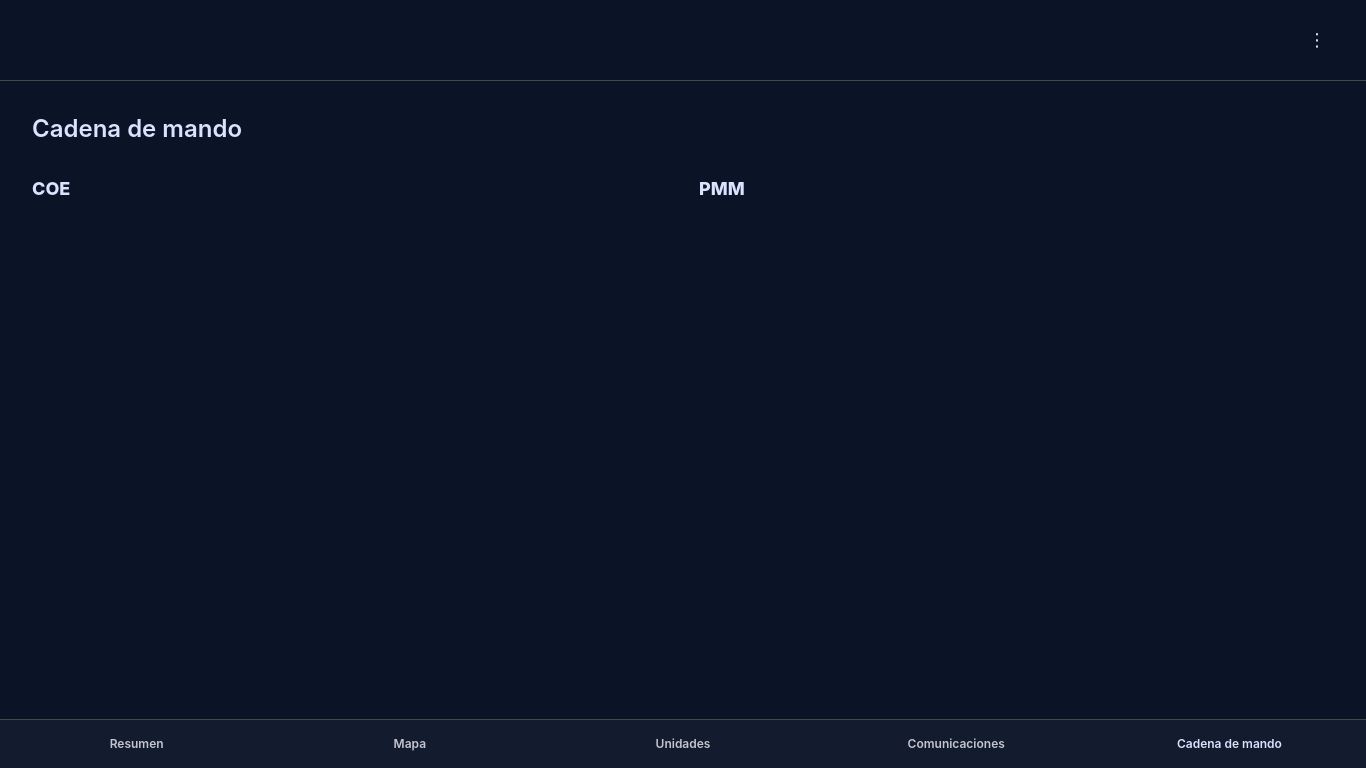
Scenario: TabBar › click en una tab navega a su ruta y cambia el contenido
Step 1. Click the tab "Unidades" → coordinates (683, 744), box [546,720,820,767]
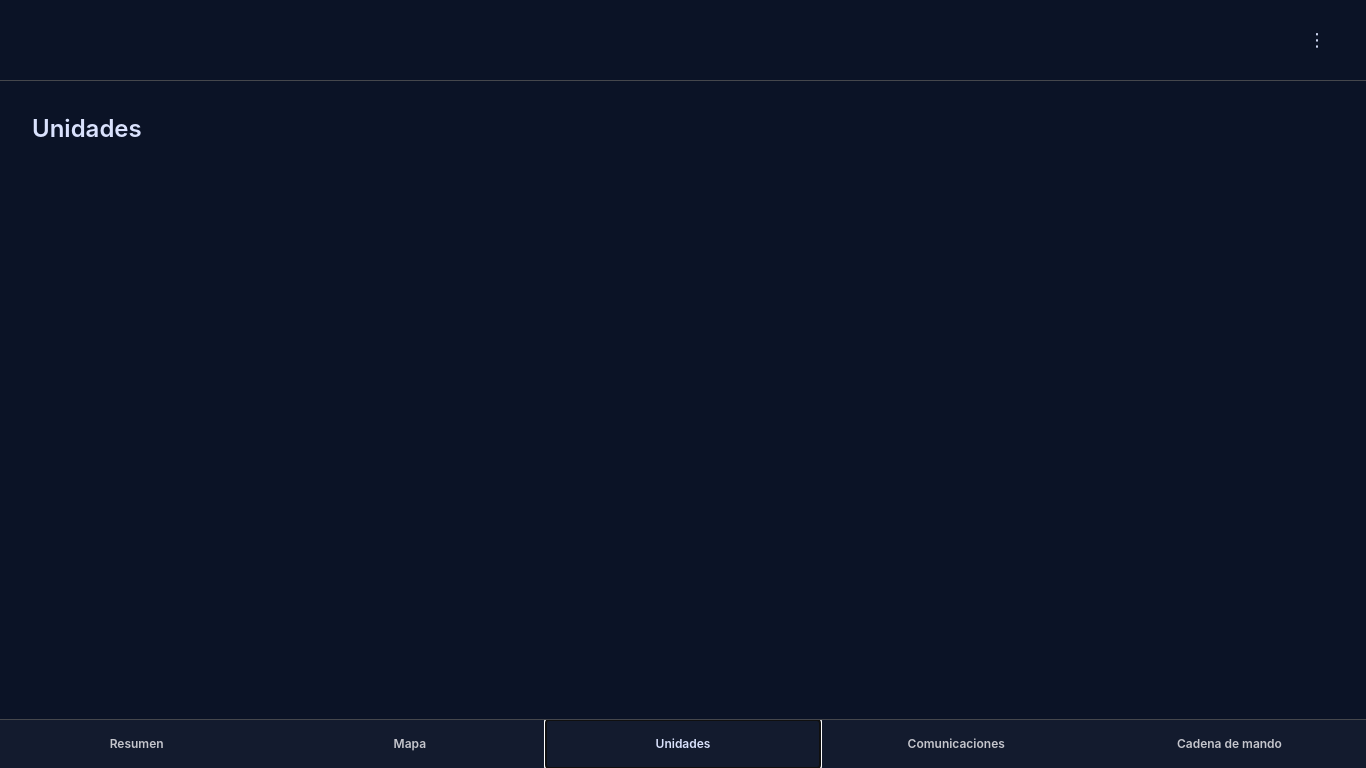
Expected: the heading "Unidades" is shown, [32,114,142,143]
